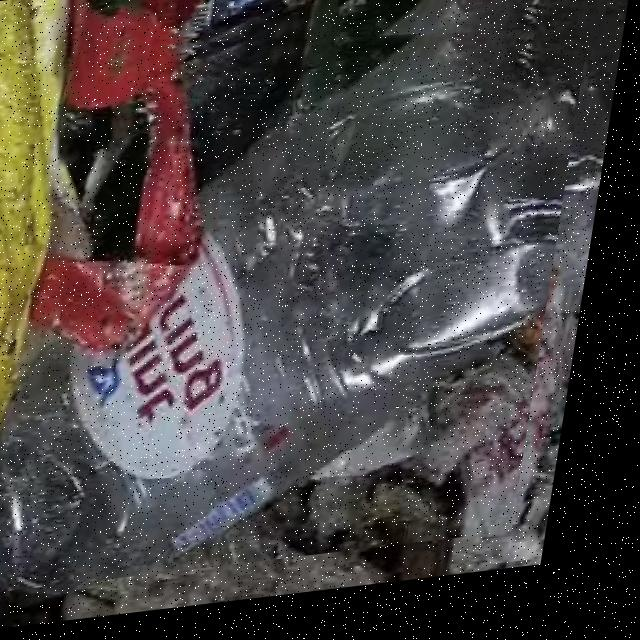plasticbottle: (0, 0, 599, 602)
